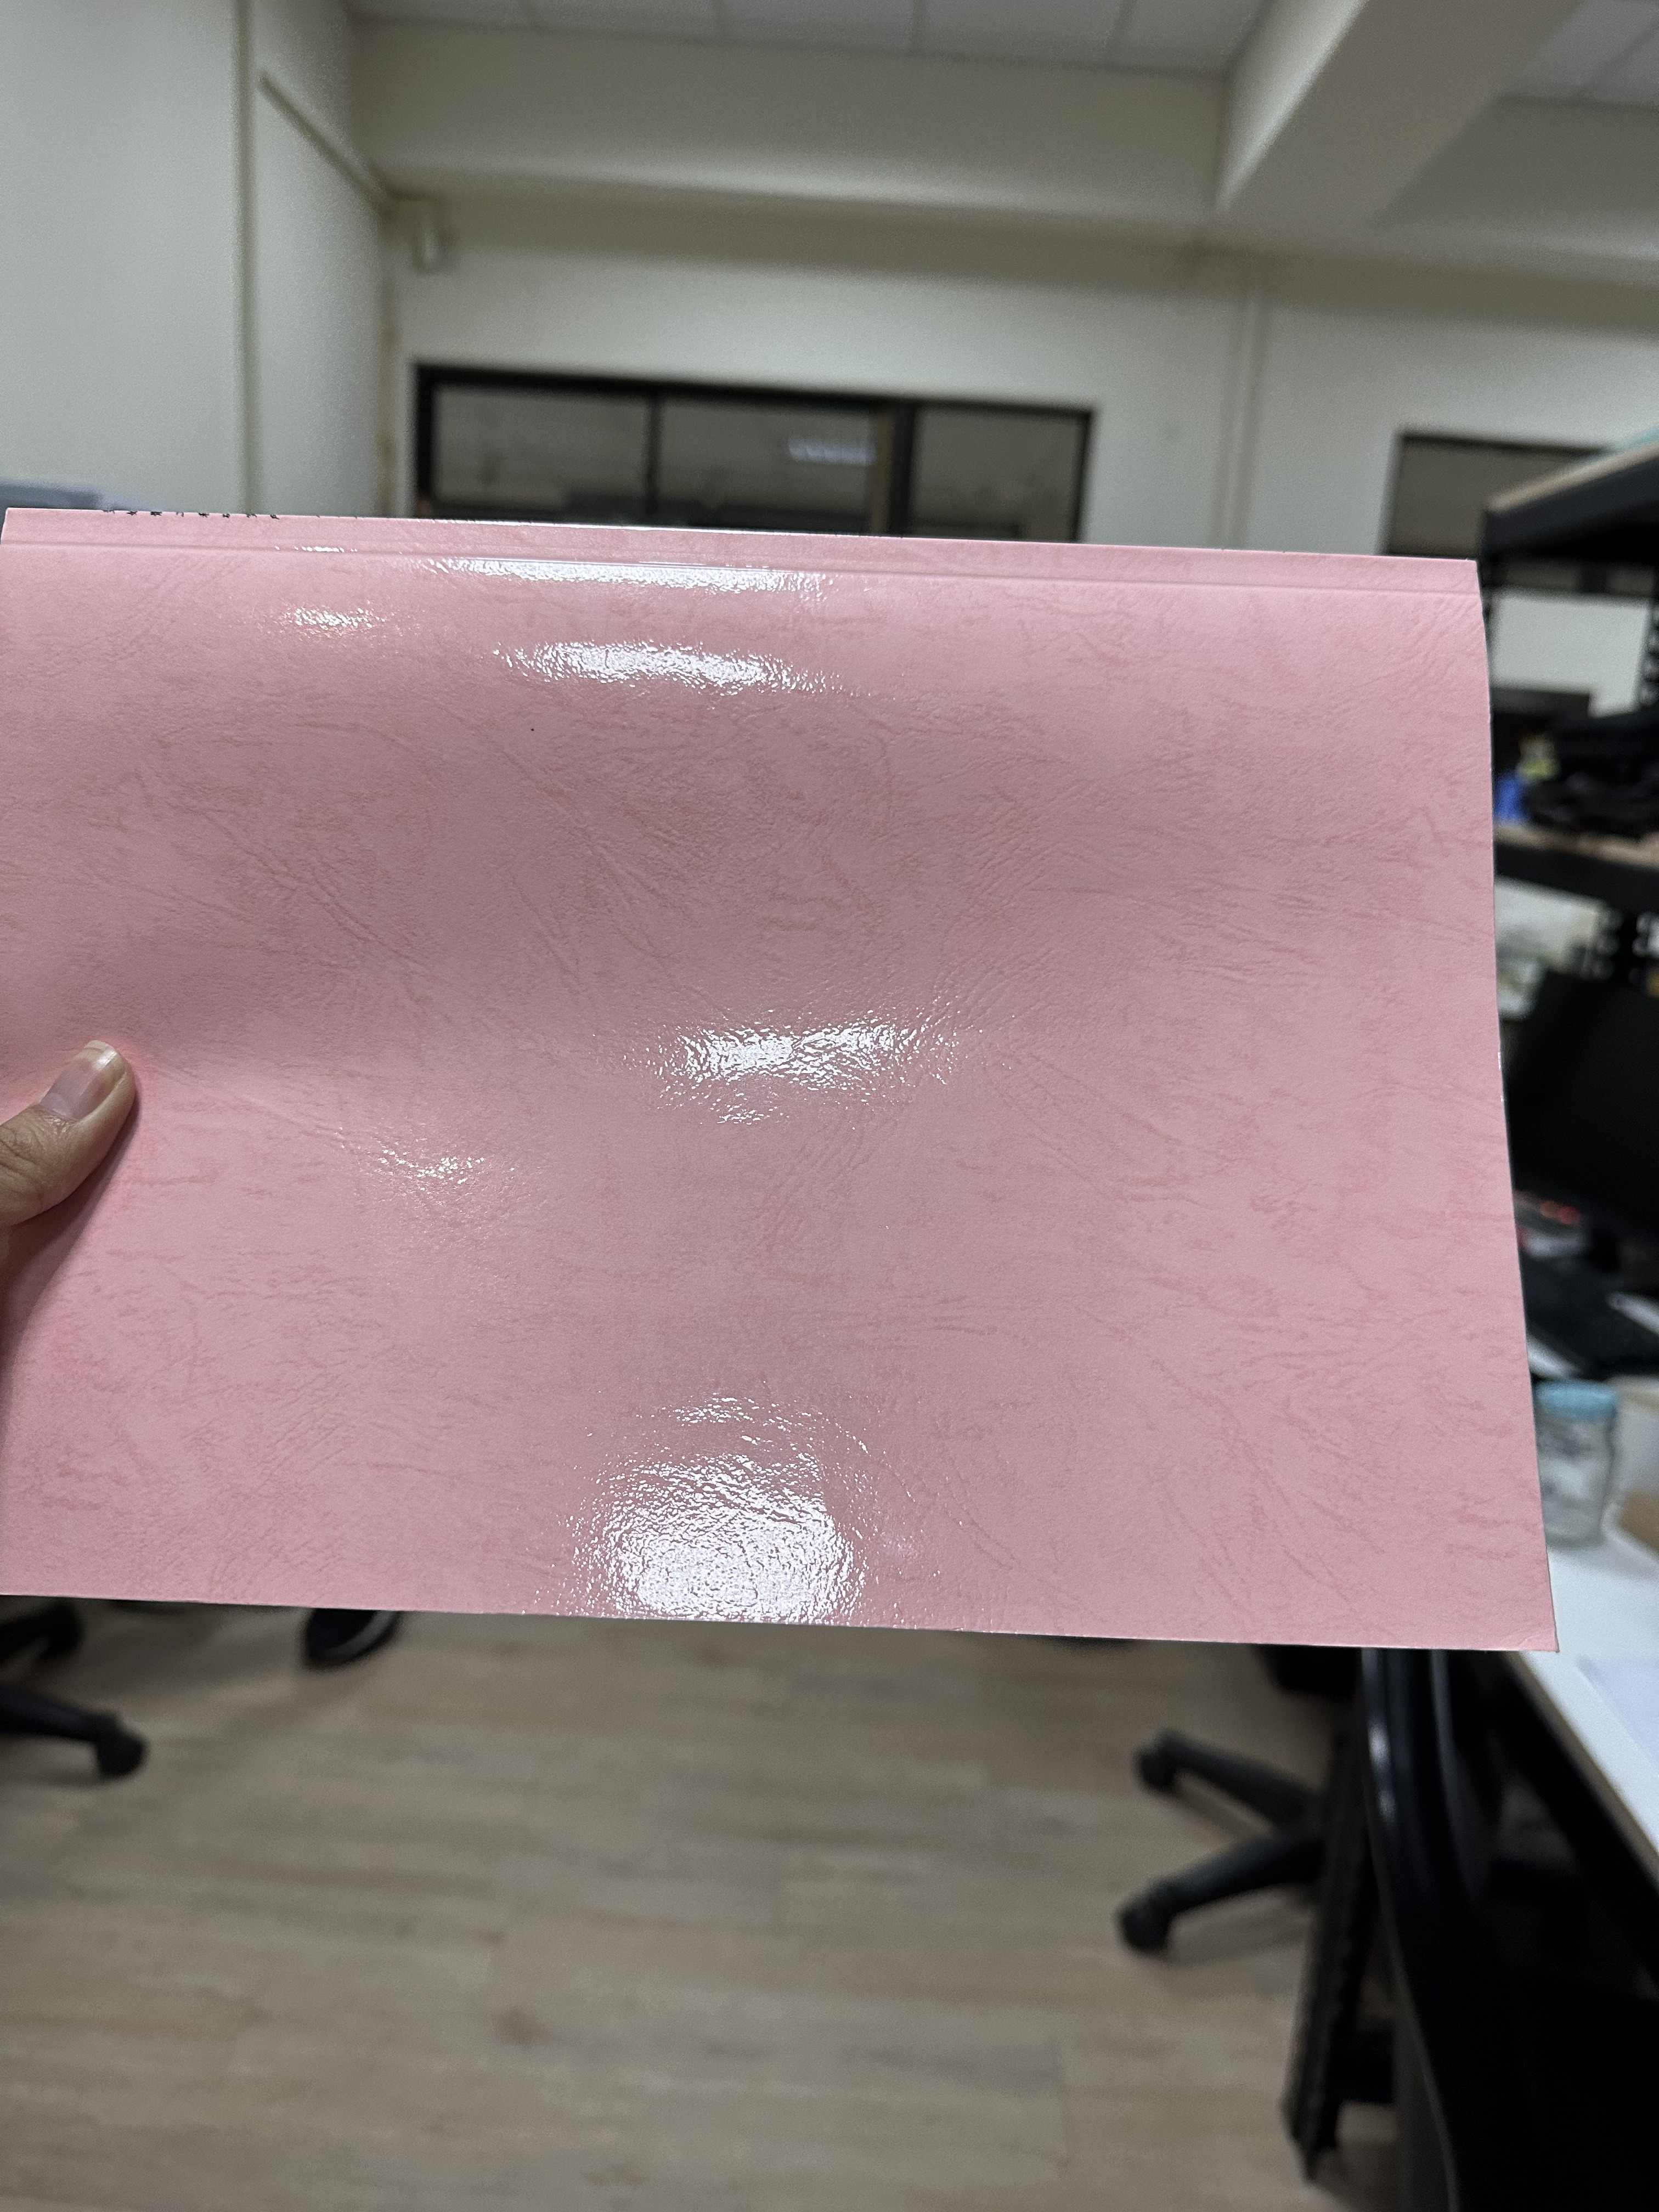book: (2, 509, 1582, 1651)
